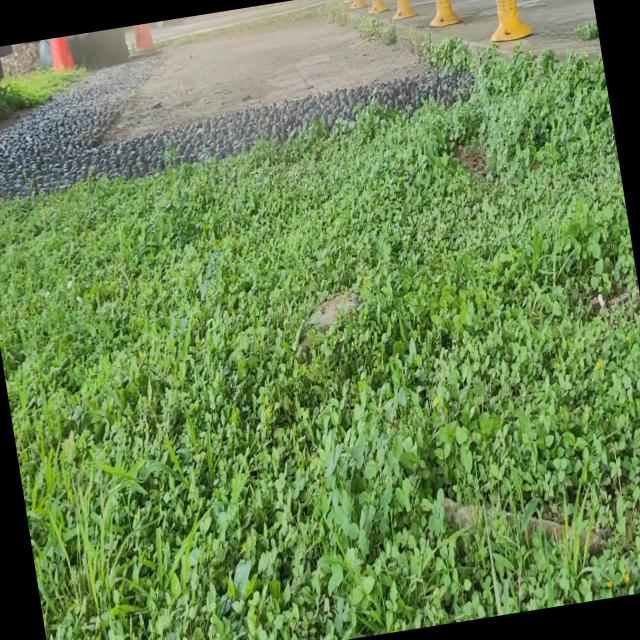grass: (0, 49, 640, 640)
rocks: (0, 59, 474, 198)
white-sand: (108, 14, 422, 140)
